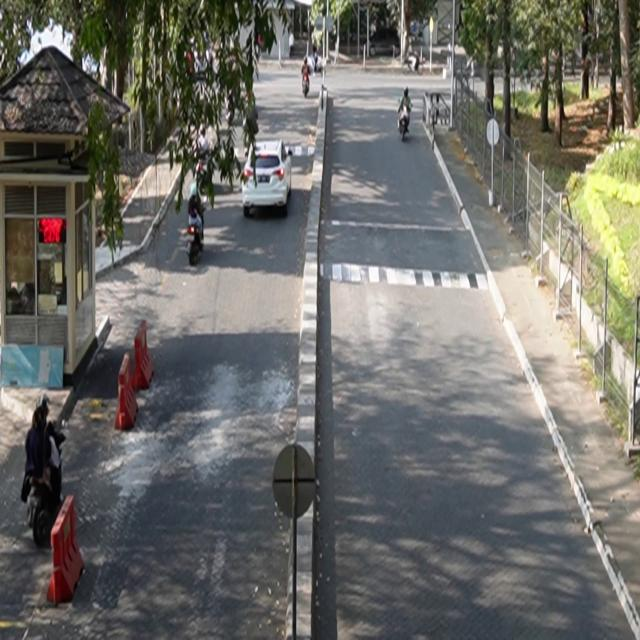car: (242, 140, 294, 219)
